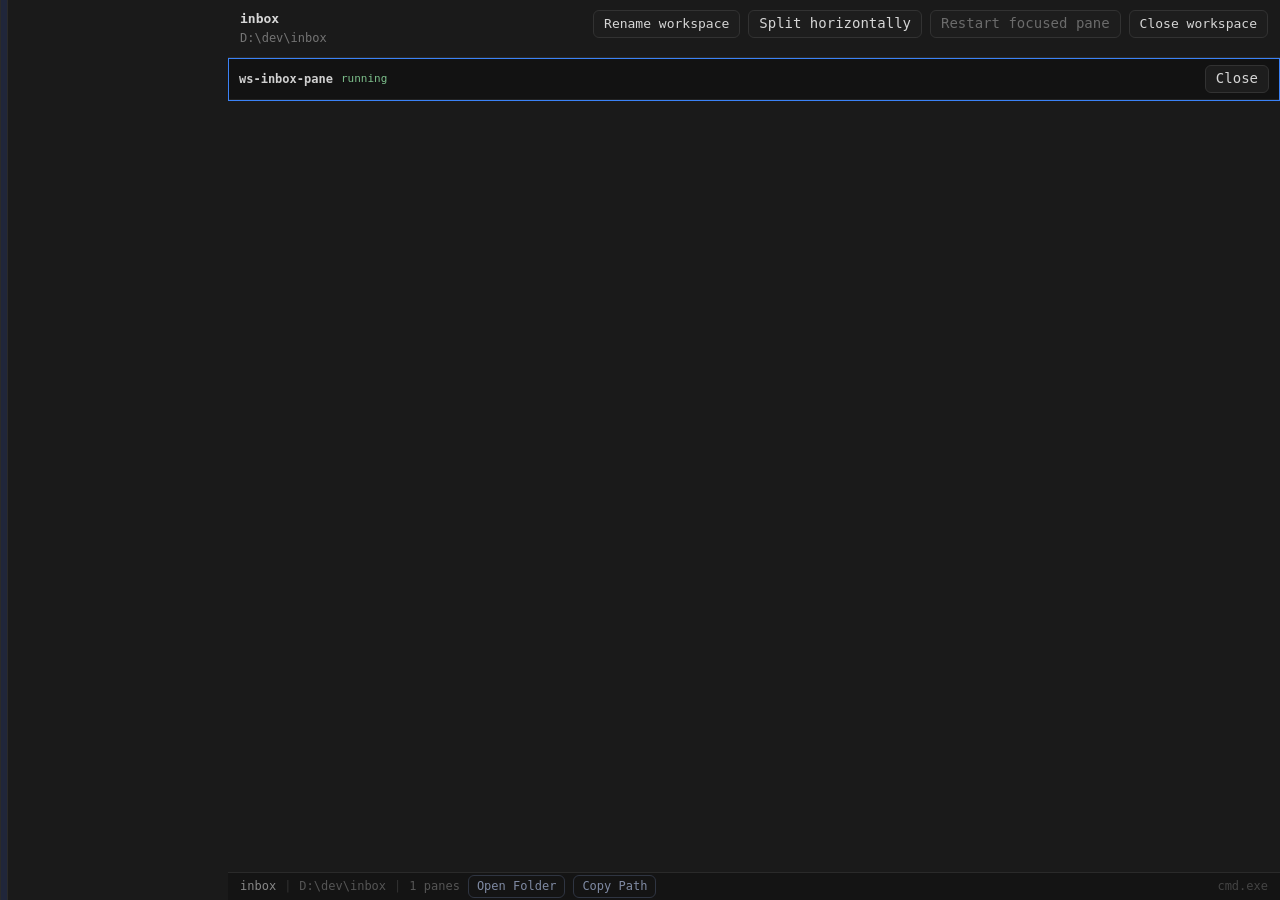
App › keeps rename errors local to the workspace toolbar
Click the button with aria-label "Rename workspace inbox" at (667, 24), box [593,10,740,38]
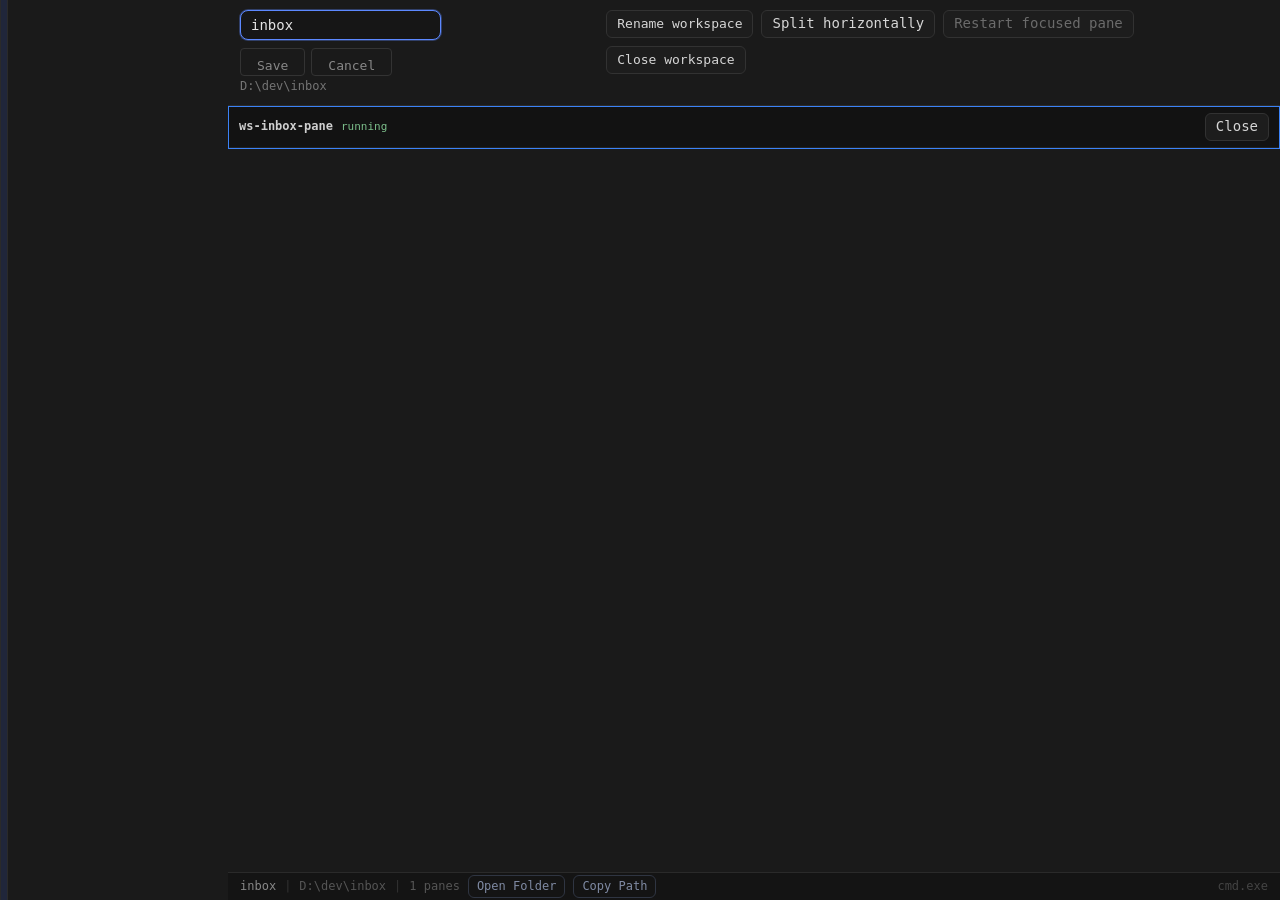
Replace the text in the field named "Rename workspace" with "inbox-prime" at (340, 25), box [240,10,441,40]
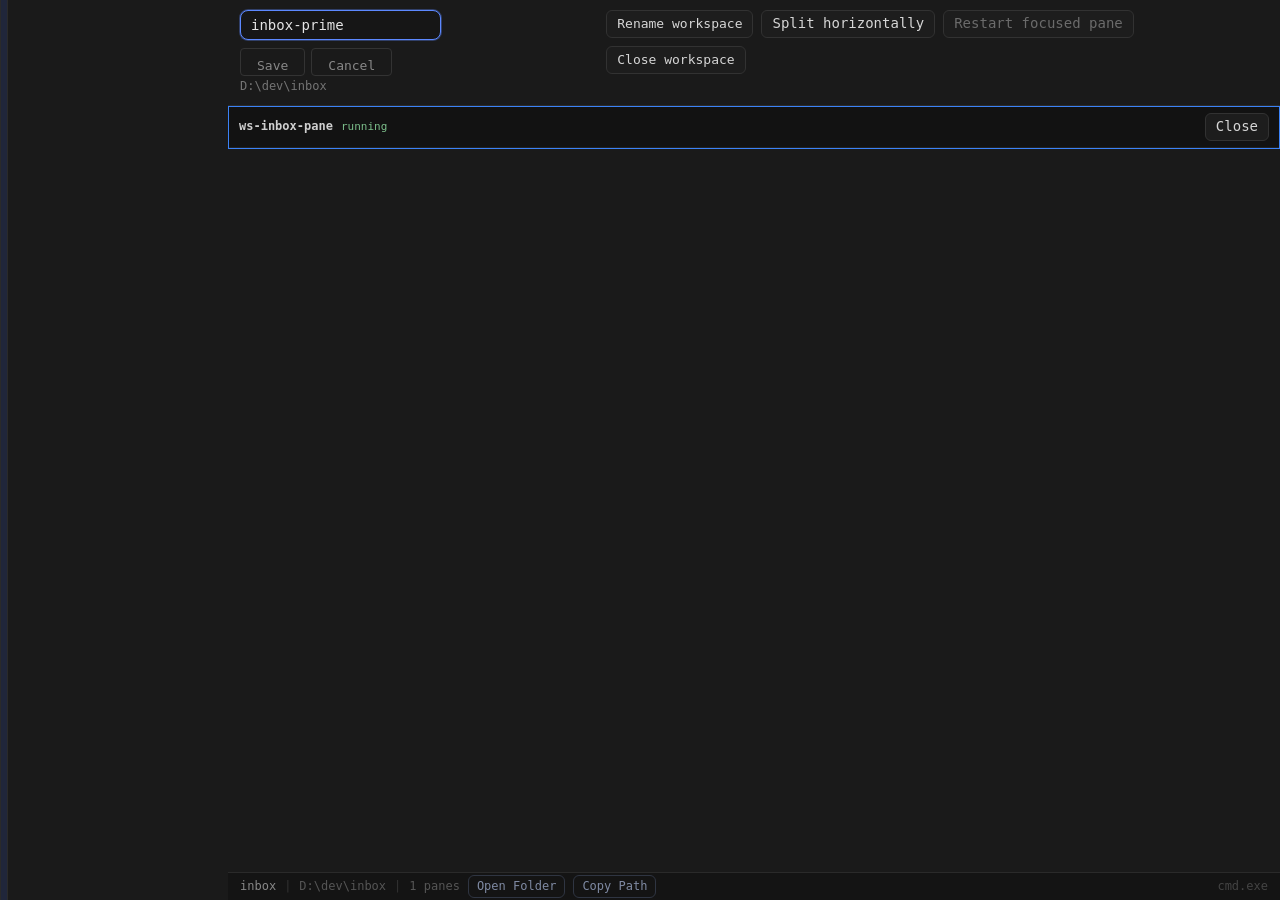
Click the button "Save" at (273, 62), box [240,48,305,76]
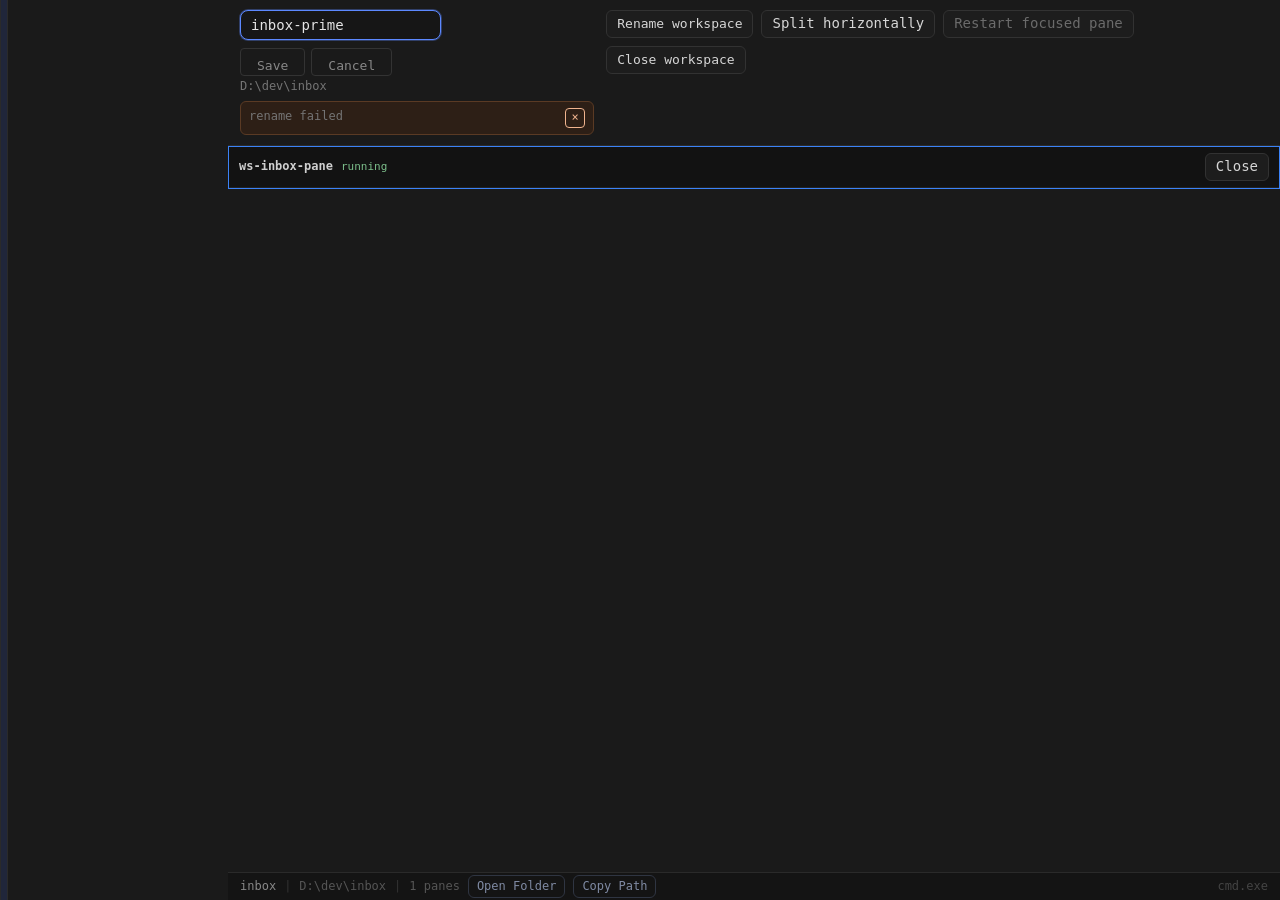
Expected: the text "rename failed" is shown, [249,108,343,125]
